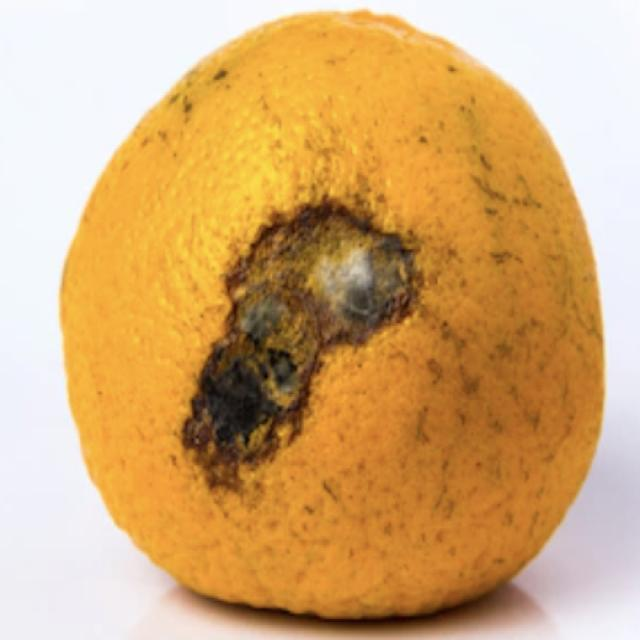sedikit-busuk: (60, 11, 602, 617)
